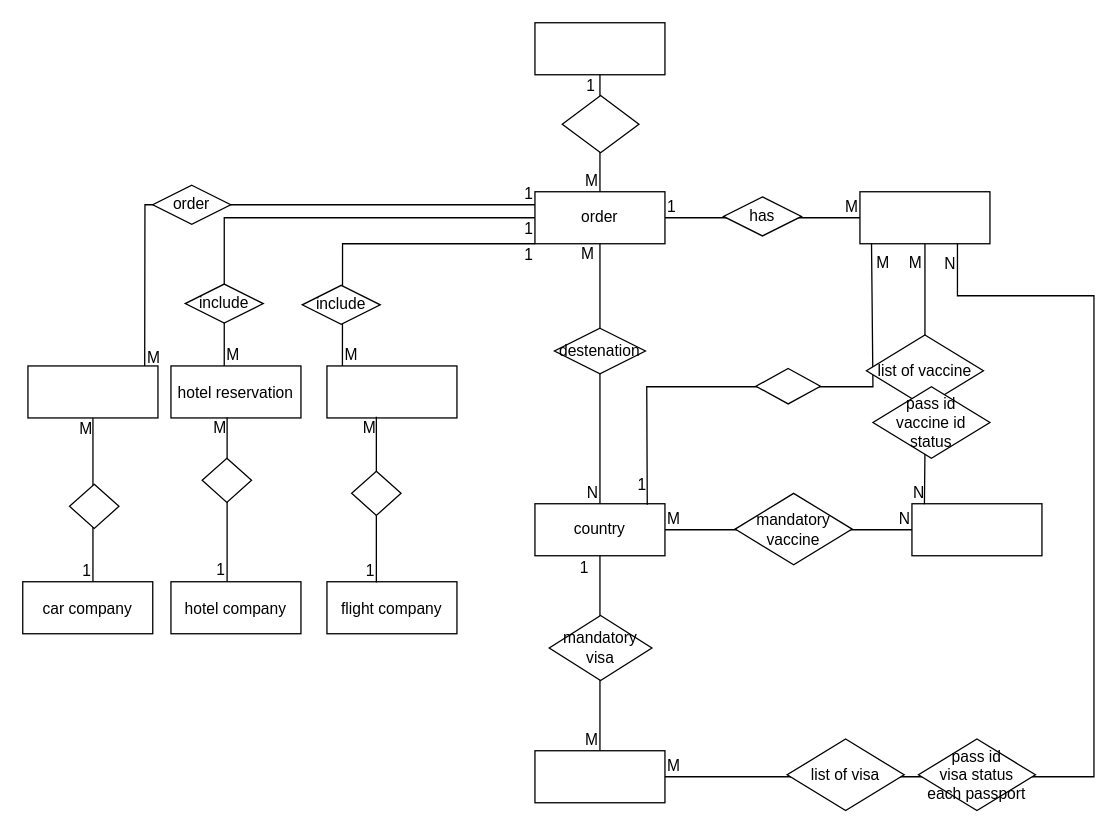
The diagram is 1118 pixels wide and 833 high, and some of its shapes have lost their labels. The centre of each missing label's shape, as x and y in pixels:
car rental reservation: point (92, 391)
customer: point (599, 48)
customer order: point (600, 123)
flight reservation: point (391, 391)
pass country: point (787, 385)
passports: point (924, 217)
vaccine: point (976, 529)
visa: point (599, 776)
